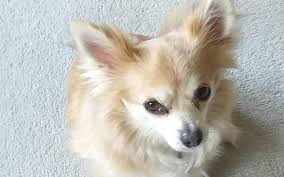Bulldog: (59, 1, 252, 177)
